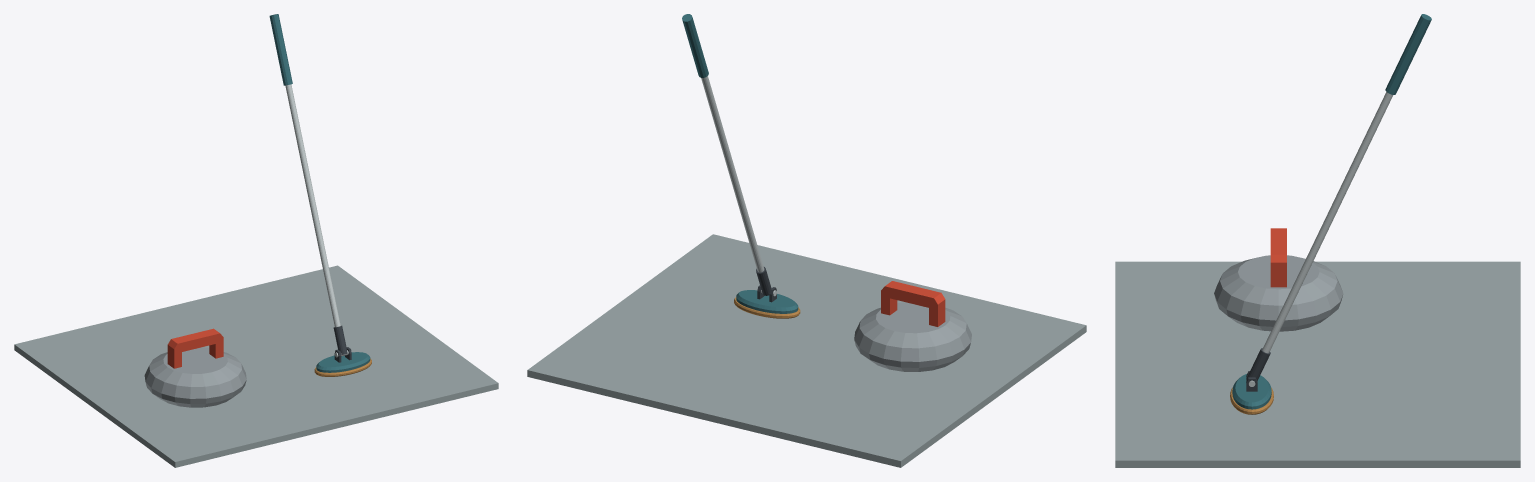
3 views of the same model, side by side, from view 1: azimuth 30°, elevation 25°; view 2: azimuth 150°, elevation 25°; view 3: azimuth 270°, elevation 25° (orthographic). The views are drawn at different scales.
Parts seen in each view (by area): view 1: SceneWholeFiniteDisplayPlatform, WholeLowConvexFacetedStone, WholeLongInclinedShaft, WholeChamferedBridgeGrip, WholeBeveledUpperHousing, WholeUpperGrip; view 2: SceneWholeFiniteDisplayPlatform, WholeLowConvexFacetedStone, WholeChamferedBridgeGrip, WholeLongInclinedShaft, WholeBeveledUpperHousing, WholeUpperGrip; view 3: SceneWholeFiniteDisplayPlatform, WholeLowConvexFacetedStone, WholeLongInclinedShaft, WholeUpperGrip, WholeChamferedBridgeGrip, WholeBeveledUpperHousing.
Part boxes in pixels (bbox=[...]): SceneWholeFiniteDisplayPlatform: bbox=[14, 265, 498, 467]; WholeLowConvexFacetedStone: bbox=[144, 347, 246, 407]; WholeLongInclinedShaft: bbox=[285, 84, 340, 327]; WholeChamferedBridgeGrip: bbox=[167, 328, 223, 368]; WholeBeveledUpperHousing: bbox=[316, 352, 370, 372]; WholeUpperGrip: bbox=[269, 14, 292, 85]; SceneWholeFiniteDisplayPlatform: bbox=[527, 234, 1086, 467]; WholeLowConvexFacetedStone: bbox=[854, 302, 971, 371]; WholeChamferedBridgeGrip: bbox=[881, 281, 945, 326]; WholeLongInclinedShaft: bbox=[701, 76, 764, 272]; WholeBeveledUpperHousing: bbox=[736, 290, 798, 313]; WholeUpperGrip: bbox=[682, 14, 708, 77]; SceneWholeFiniteDisplayPlatform: bbox=[1115, 261, 1520, 467]; WholeLowConvexFacetedStone: bbox=[1214, 255, 1343, 331]; WholeLongInclinedShaft: bbox=[1262, 92, 1393, 353]; WholeUpperGrip: bbox=[1385, 14, 1431, 94]; WholeChamferedBridgeGrip: bbox=[1270, 228, 1286, 287]; WholeBeveledUpperHousing: bbox=[1232, 374, 1271, 409].
Bounding box in the file's own units: 1.44 × 1.32 × 1.24.
